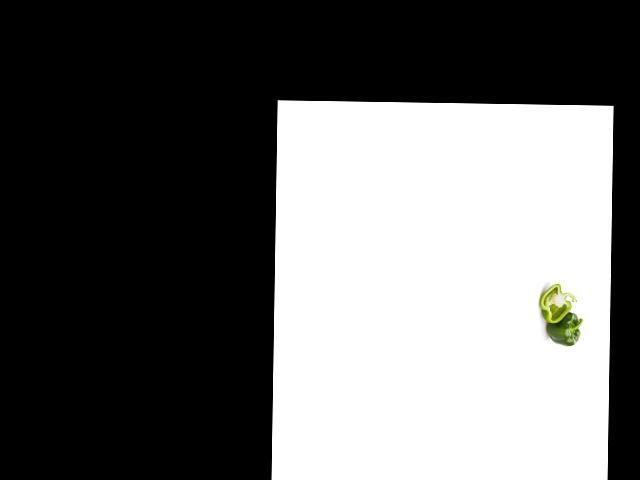bell_pepper: (540, 281, 578, 325)
